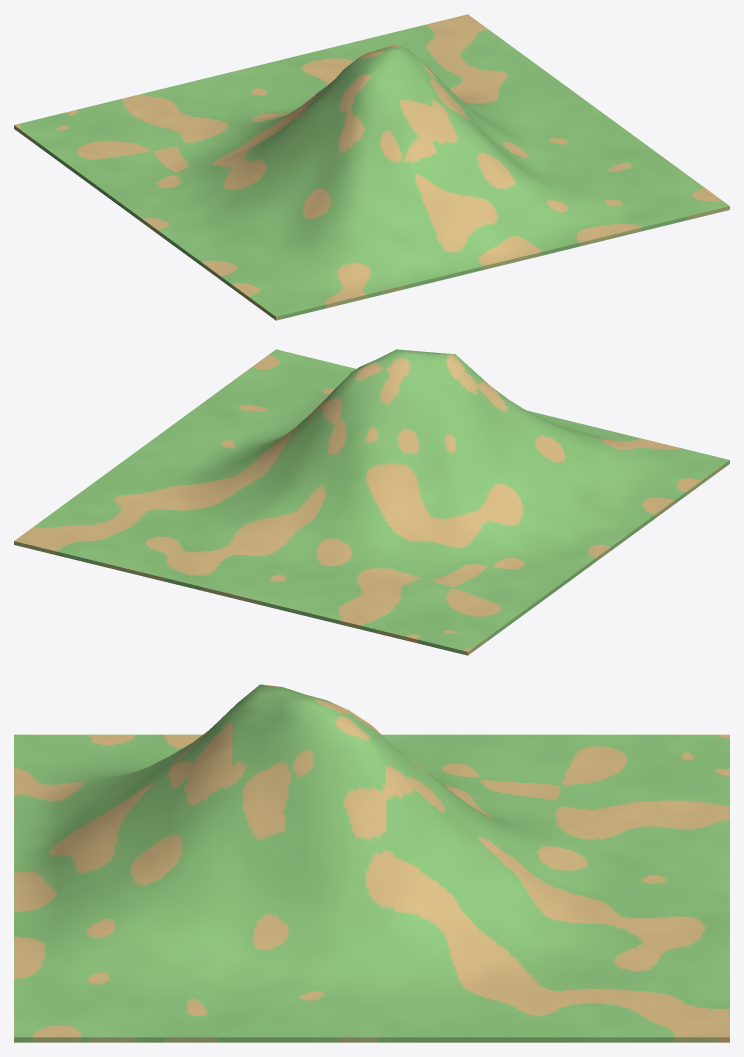
The model's file is Grass_Hills_03.obj.
3 renders of one model, top to bottom at view 1: azimuth 30°, elevation 25°; view 2: azimuth 150°, elevation 25°; view 3: azimuth 270°, elevation 25°, orthographic. The views are drawn at different scales.
Size of the model in its own units: 10 by 2.88 by 10.
Materials: 1 (1 with a texture image).
